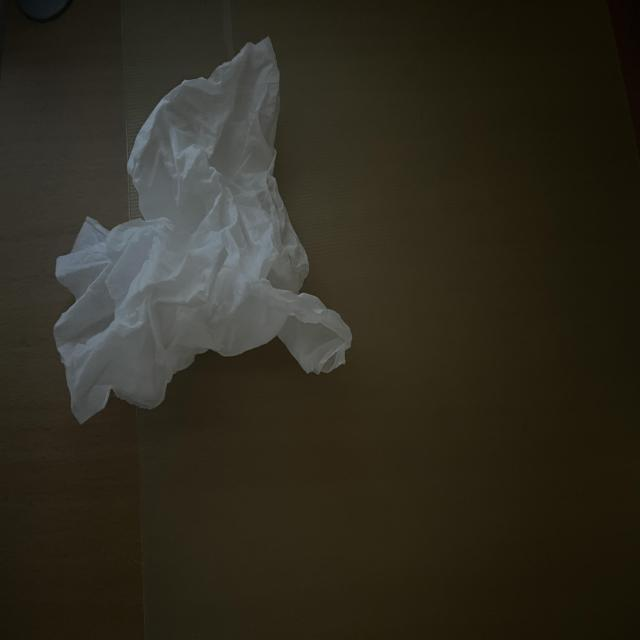Paper: (52, 30, 358, 433)
